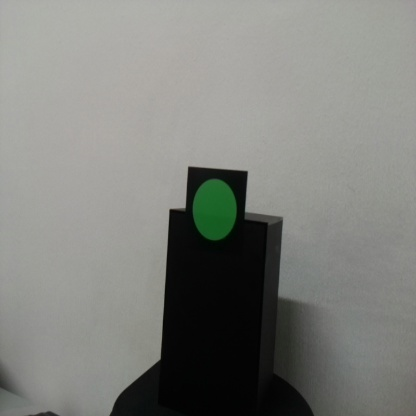id_5: (187, 168, 246, 257)
